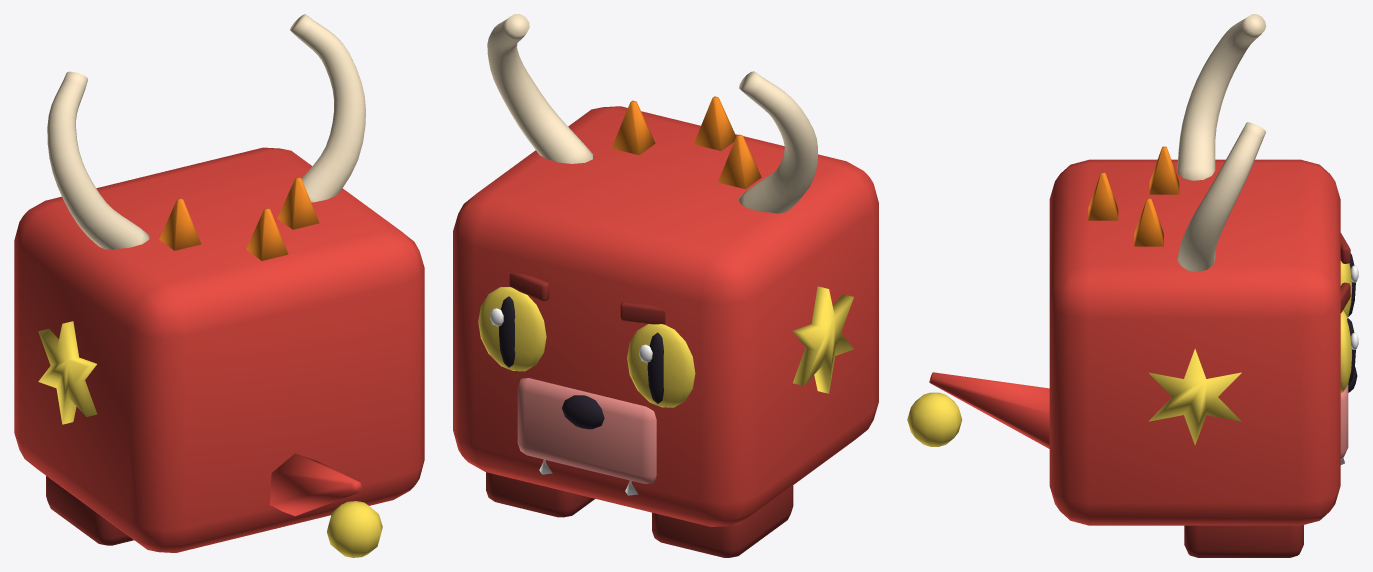
The model's file is pet_novabeast.fbx.
3 renders of one model, left to right at view 1: azimuth 30°, elevation 25°; view 2: azimuth 150°, elevation 25°; view 3: azimuth 270°, elevation 25°, orthographic. The views are drawn at different scales.
Visible parts, largest first — view 1: pet_novabeast; view 2: pet_novabeast; view 3: pet_novabeast.
Boxes of the visible parts, x1=… form: pet_novabeast: x1=14, y1=14, x2=424, y2=557; pet_novabeast: x1=453, y1=14, x2=878, y2=557; pet_novabeast: x1=907, y1=14, x2=1358, y2=557.
Bounding box in the file's own units: 2.26 × 3.15 × 2.95.
Materials: 1 (1 with a texture image).
